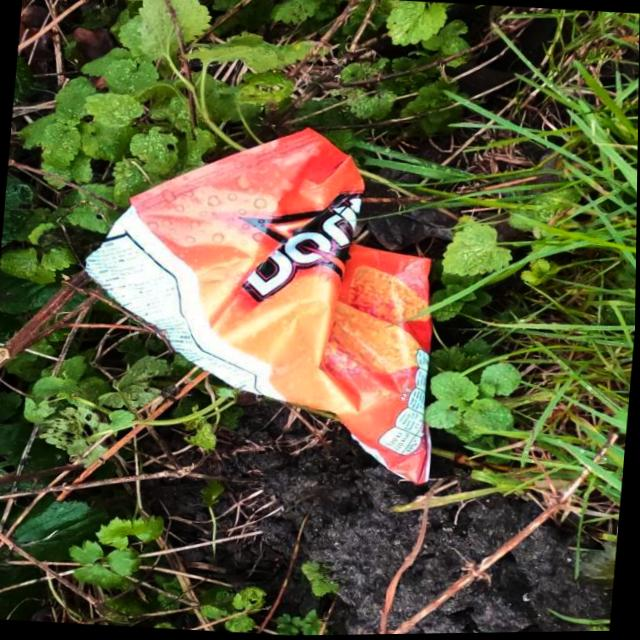Plastic: (65, 105, 461, 492)
